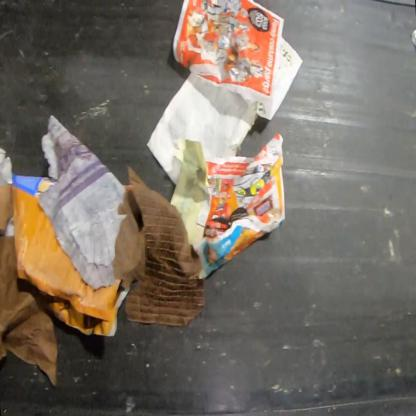cardboard: (13, 174, 130, 336), (111, 166, 204, 326)
